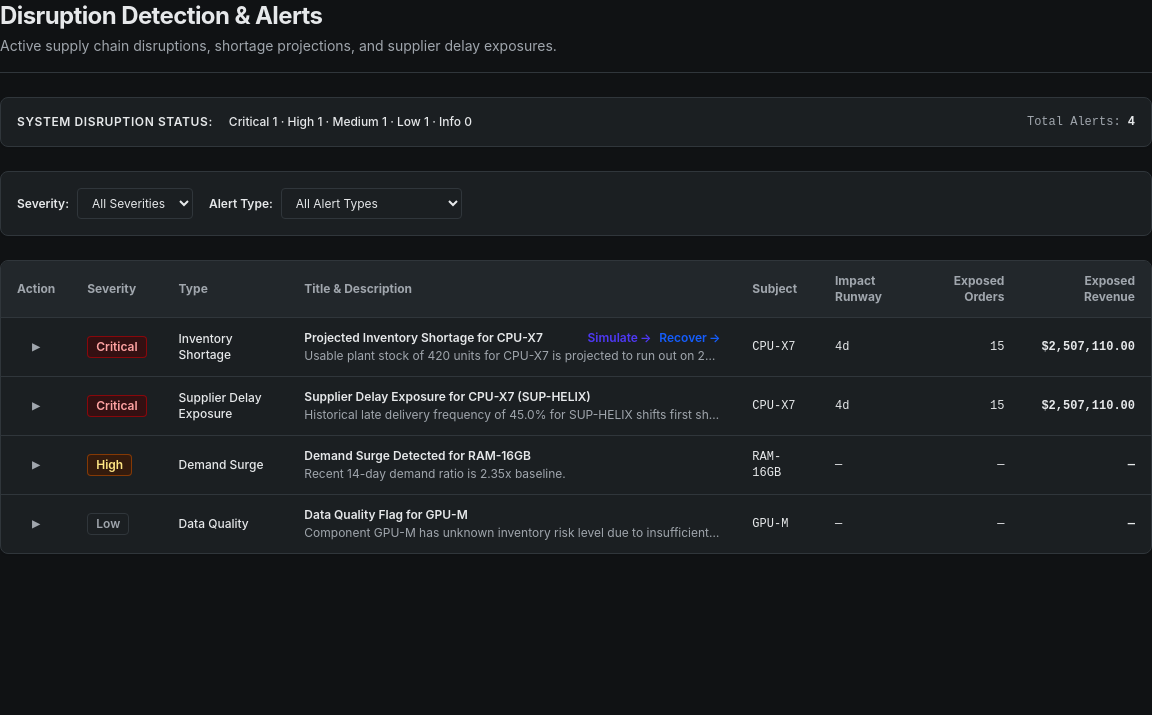
Test case: AlertsPage › expands delay alert row to show delay scenario table with what-if wording
This screenshot has width=1152, height=715.
Click the button with test id "toggle-expand-supplier_delay_exposure.CPU-X7.SUP-HELIX" at coordinates (36, 406), box x1=28 y1=394 x2=44 y2=418
(page scrolled)
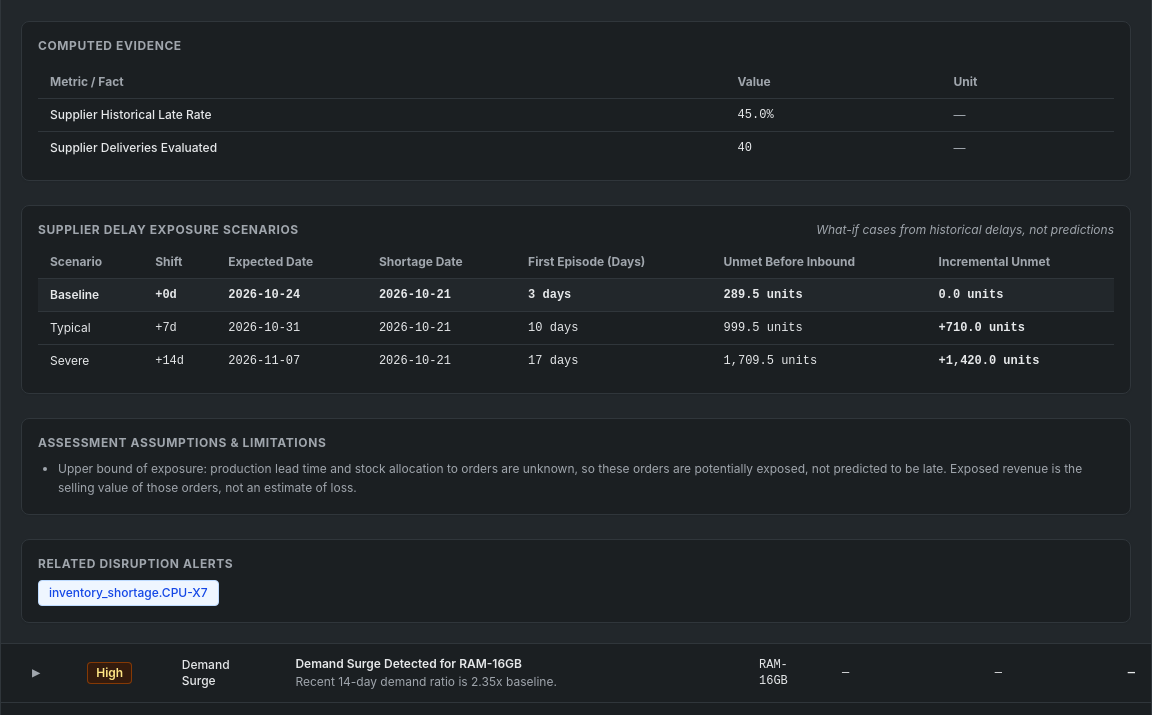
Expected: the table with test id "delay-scenarios-table" is shown, x1=38 y1=246 x2=1114 y2=377
Expected: the text "What-if cases from historical delays, not predictions" is shown, x1=816 y1=222 x2=1114 y2=238
Expected: the text "+7d" is shown, x1=143 y1=311 x2=216 y2=344
